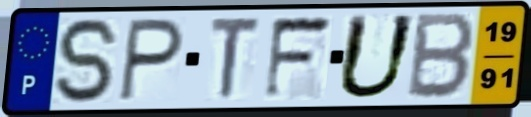B: (403, 10, 479, 102)
F: (260, 13, 336, 103)
P: (115, 16, 187, 105)
S: (53, 16, 123, 107)
T: (208, 14, 264, 104)
U: (332, 12, 421, 102)
